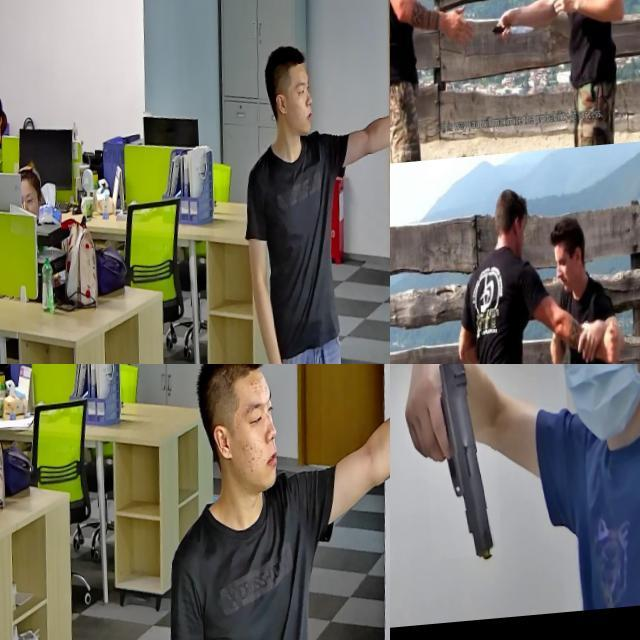-: (486, 26, 534, 42), (603, 339, 616, 364)
gun-knife-thesis - v11 Yolov5 augmented: (418, 364, 496, 566)
